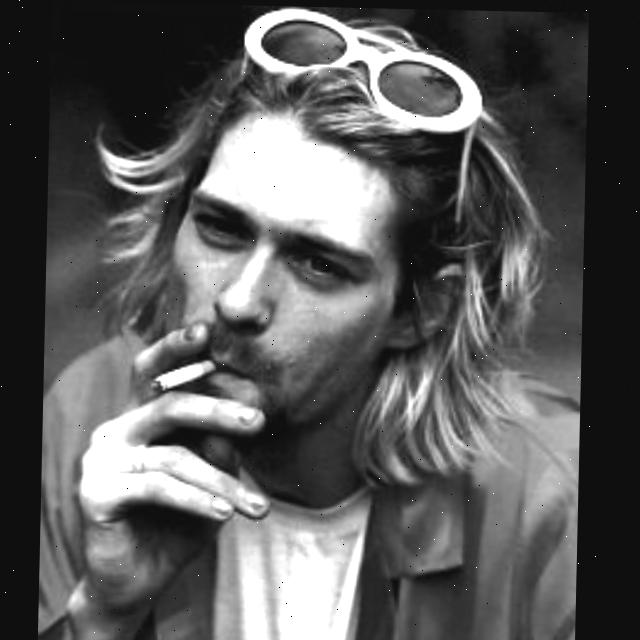cigarette: (149, 356, 220, 393)
